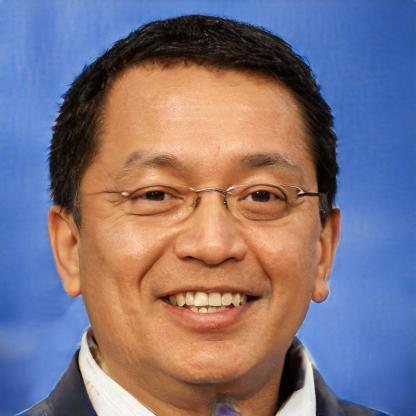glasses: (81, 178, 322, 223)
